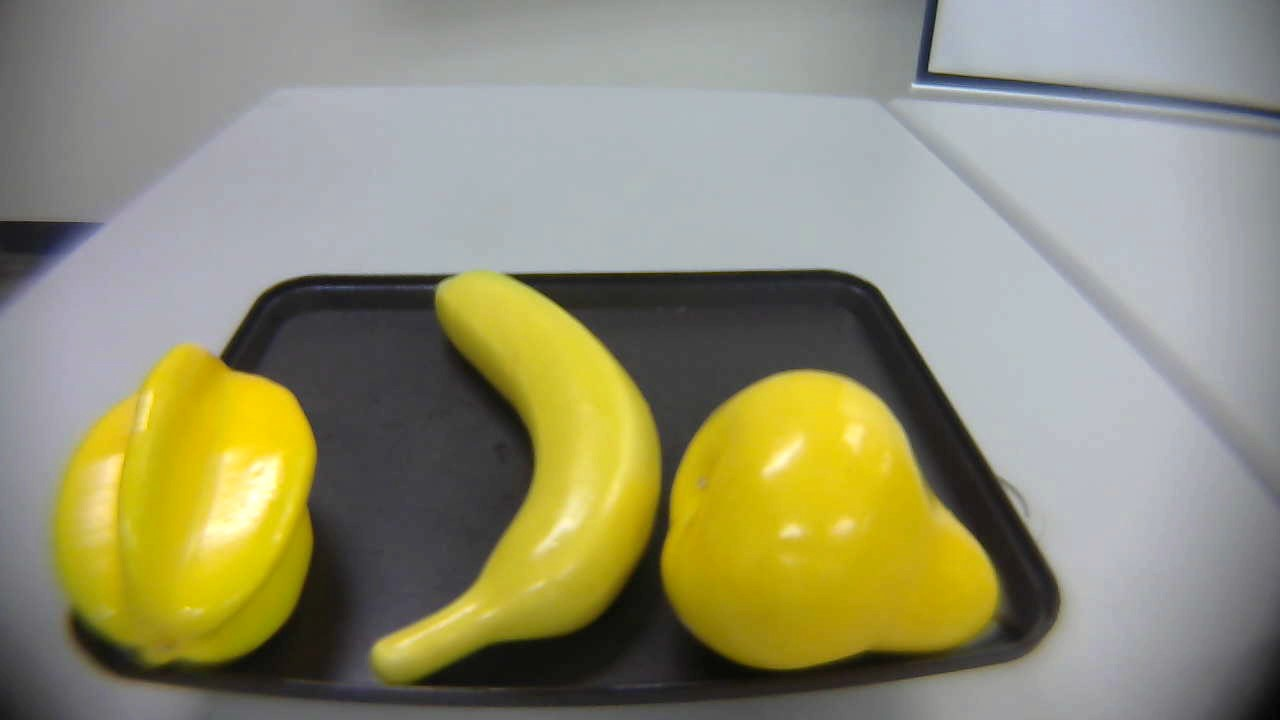banana: (348, 253, 669, 691)
star fruit: (56, 340, 320, 666)
yellow pear: (660, 368, 1037, 678)
